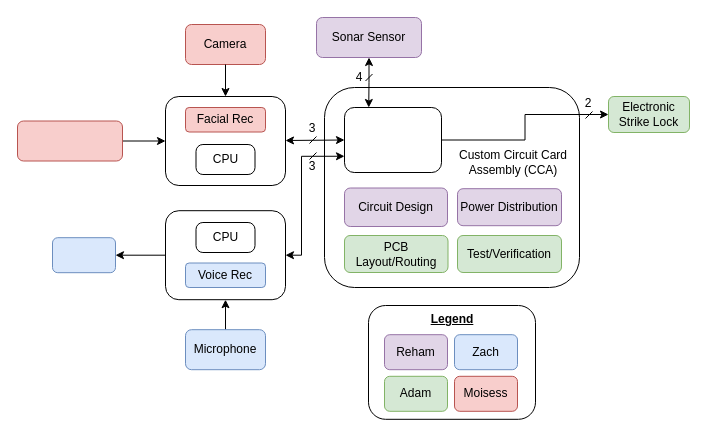
This 707x437 diagram has some shape labels left out. Here are the shapes that lost their labels. From the top down, the centre of each, then its label:
pixel 69 140: 10-Digit Keypad
pixel 393 139: System Controller MCU
pixel 84 255: Status LEDs
